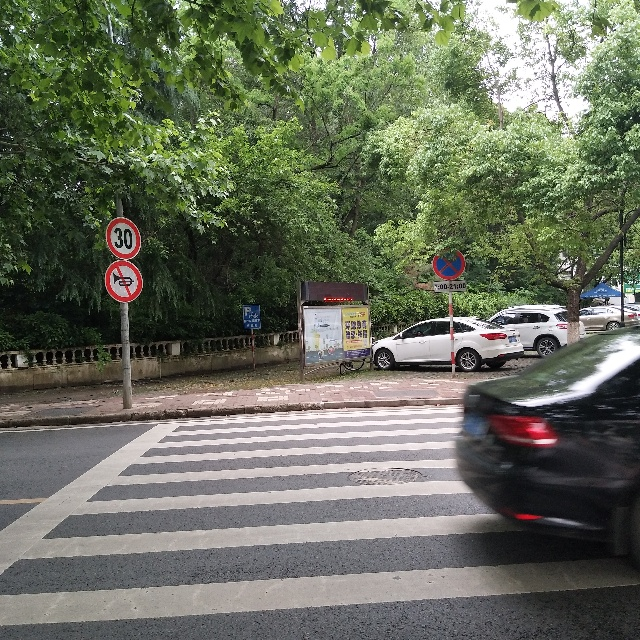nohonk: (101, 257, 145, 303)
stop: (431, 239, 470, 282)
